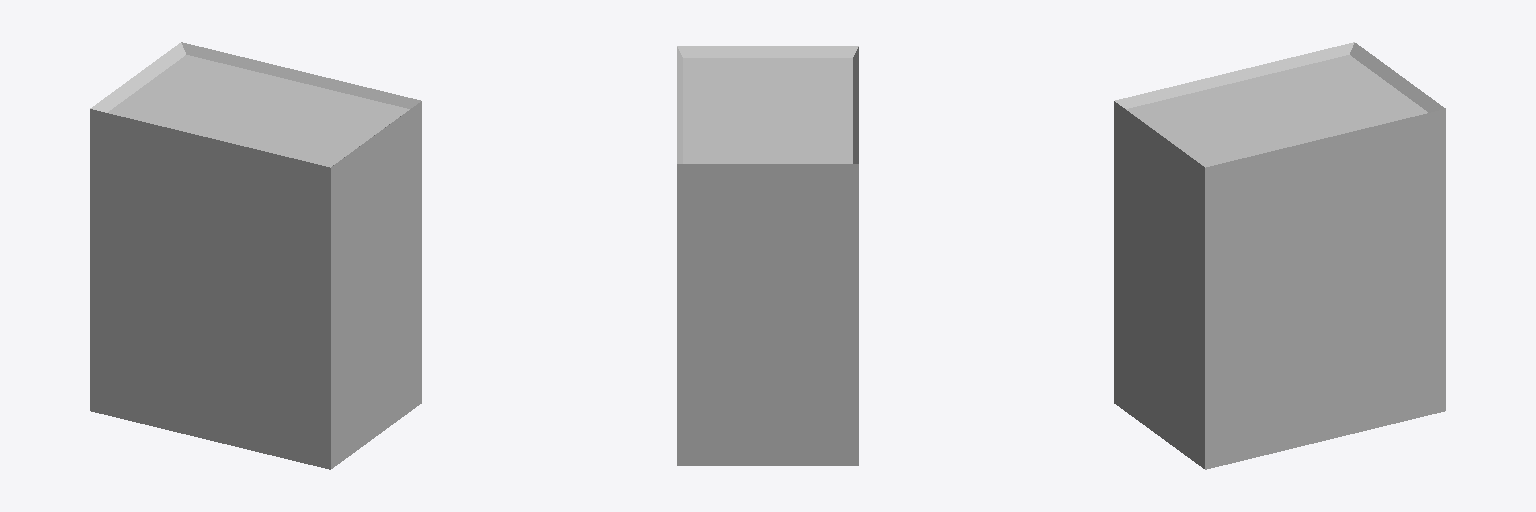
The model's file is Stove.obj.
3 renders of one model, left to right at view 1: azimuth 30°, elevation 25°; view 2: azimuth 150°, elevation 25°; view 3: azimuth 270°, elevation 25°, orthographic.
Visible parts, largest first — view 1: Stove; view 2: Stove; view 3: Stove.
Boxes of the visible parts, x1=… form: Stove: x1=90, y1=42, x2=421, y2=469; Stove: x1=677, y1=46, x2=858, y2=465; Stove: x1=1114, y1=42, x2=1445, y2=469.
Size of the model in its own units: 0.814 by 0.9144 by 0.9099.